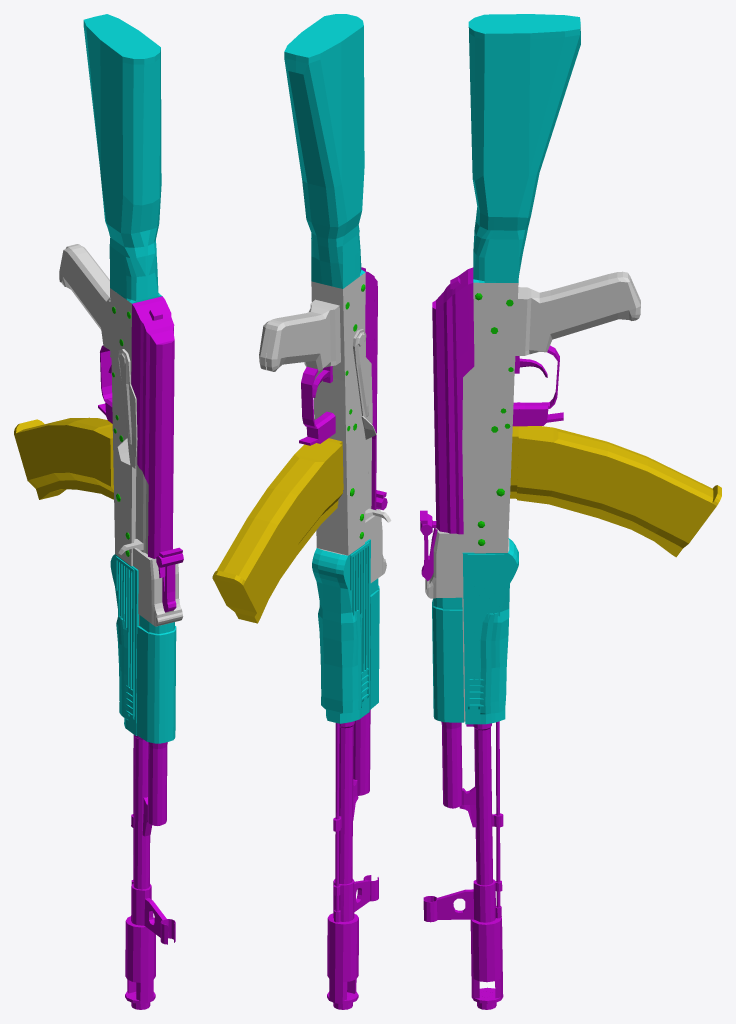
3 renders of one model, left to right at view 1: azimuth 30°, elevation 25°; view 2: azimuth 150°, elevation 25°; view 3: azimuth 270°, elevation 25°, orthographic. The views are drawn at different scales.
Visible parts, largest first — view 1: AK; view 2: AK; view 3: AK.
Boxes of the visible parts, x1=… form: AK: x1=14, y1=14, x2=183, y2=1009; AK: x1=212, y1=14, x2=391, y2=1009; AK: x1=420, y1=14, x2=721, y2=1009.
Size of the model in its own units: 0.3485 by 6.07 by 1.69.
